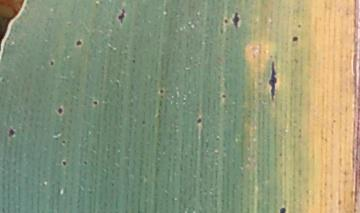tarspot: (267, 59, 279, 102), (231, 7, 241, 31), (117, 6, 126, 25), (8, 127, 16, 138), (75, 39, 83, 47), (197, 116, 203, 126), (278, 207, 288, 213), (222, 17, 229, 25), (57, 106, 63, 115), (293, 35, 299, 44), (92, 99, 99, 106), (159, 87, 165, 95), (60, 159, 66, 166), (221, 93, 227, 100), (297, 23, 302, 29), (83, 160, 88, 165), (61, 139, 65, 144), (144, 120, 147, 126), (49, 59, 52, 64)
